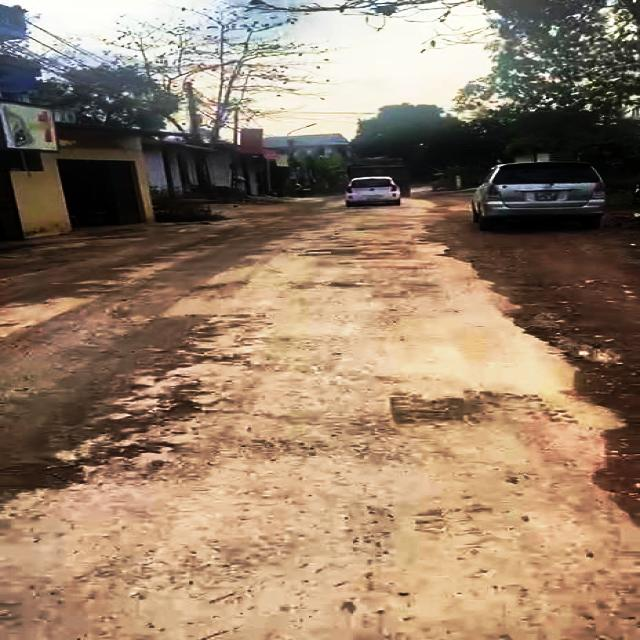pothole: (0, 439, 161, 491), (91, 380, 203, 434)
